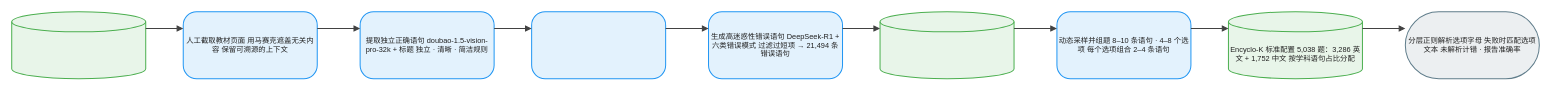
Some shapes in this 1552 by 91 pixel diagram are drawn without their labels. Here are the shapes that lost their labels. From the top down, the centre of each, then its label:
At point 78,45: "选择 62 本大学 / 研究生教材 11 个学科 · 43 个源子领域（§3.1.1） 权威的中英文知识来源".
At point 598,45: "过滤并复核正确语句 移除图像 / 引用 / 语义含混项 3 名标注员复核 21,525 条合格语句".
At point 946,45: "建立语句集合 21,525 条正确 + 21,494 条错误 共 43,019 条 · 44 个领域 / 62 个子领域（Table 1）".
